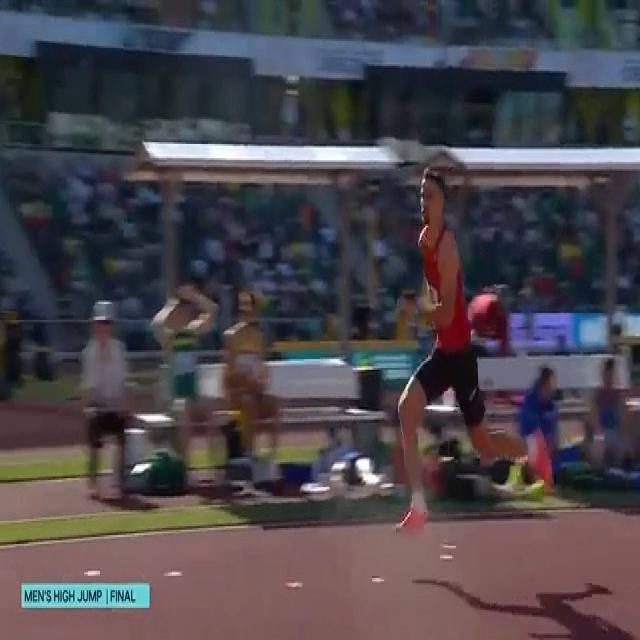run: (393, 164, 552, 536)
